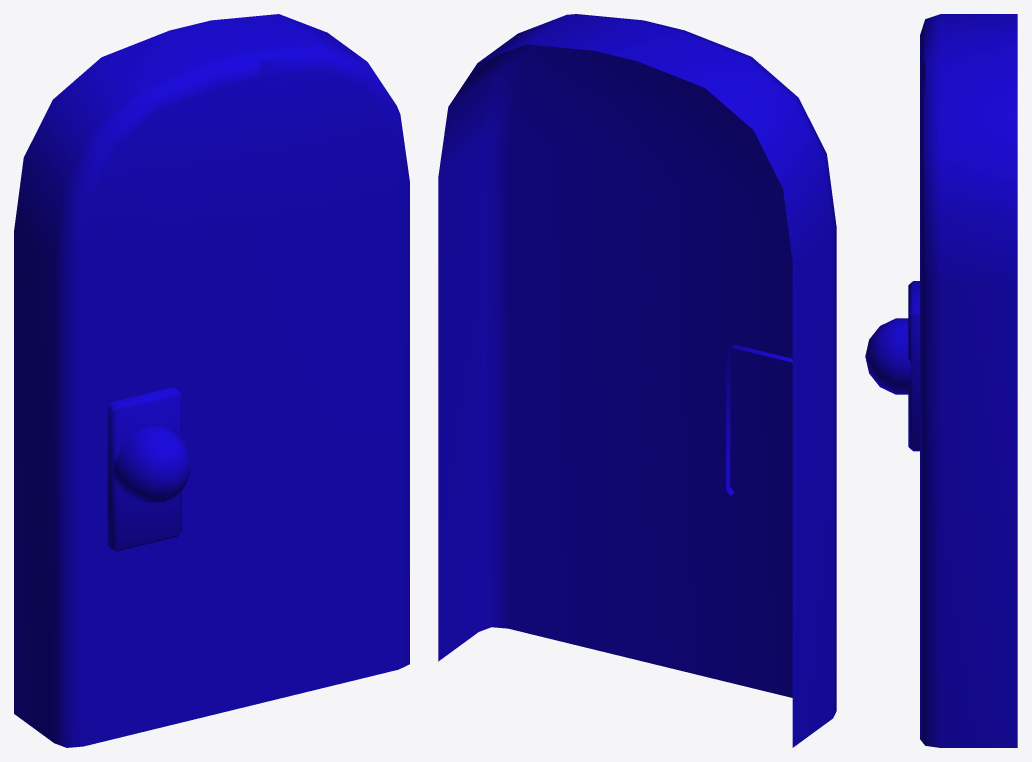
The model's file is SM_Door.fbx.
3 renders of one model, left to right at view 1: azimuth 30°, elevation 25°; view 2: azimuth 150°, elevation 25°; view 3: azimuth 270°, elevation 25°, orthographic. The views are drawn at different scales.
Visible parts, largest first — view 1: SM_Door; view 2: SM_Door; view 3: SM_Door.
Boxes of the visible parts, x1,y1,x2,y2 form: SM_Door: [14, 14, 409, 747]; SM_Door: [438, 14, 836, 747]; SM_Door: [865, 14, 1017, 747].
Size of the model in its own units: 200 by 350 by 78.07.
